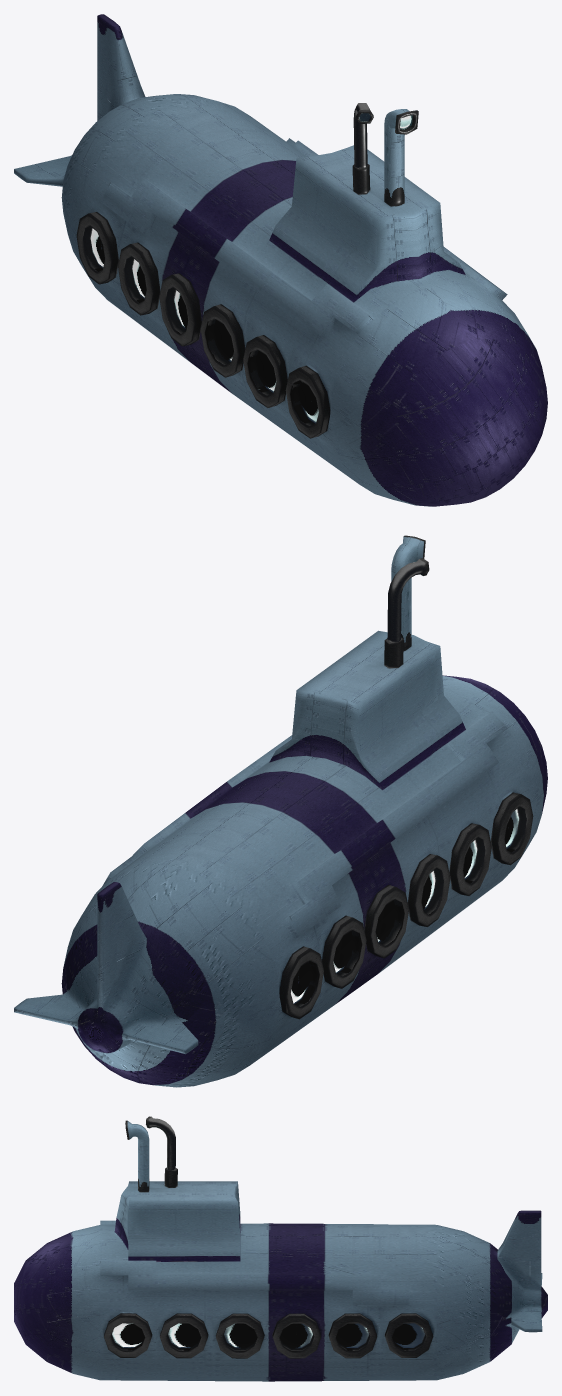
File: blueSub.glb
3 renders of one model, top to bottom at view 1: azimuth 30°, elevation 25°; view 2: azimuth 150°, elevation 25°; view 3: azimuth 270°, elevation 25°, orthographic. The views are drawn at different scales.
Parts seen in each view (by area): view 1: Sub; view 2: Sub; view 3: Sub.
Boxes of the visible parts, x1,y1,x2,y2 form: Sub: (14, 14, 547, 506); Sub: (14, 535, 547, 1087); Sub: (14, 1116, 547, 1381).
Bounding box in the file's own units: 12.71 × 20.95 × 40.6.
Materials: 1 (1 with a texture image).
